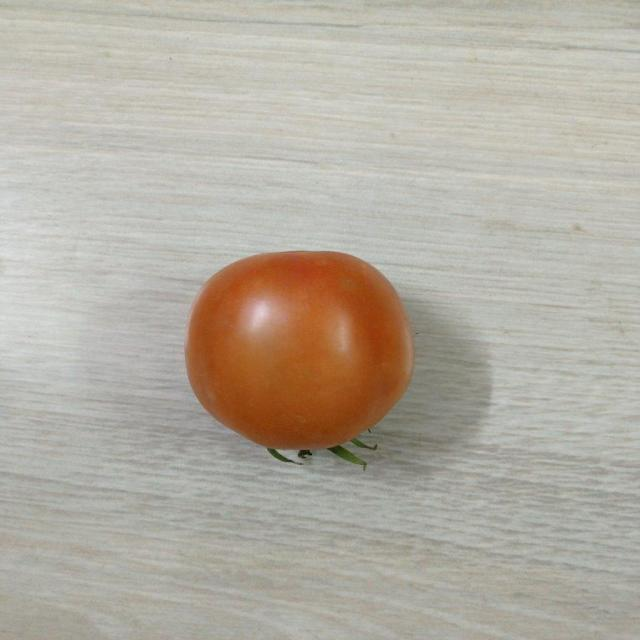Tomato: (181, 246, 424, 473)
